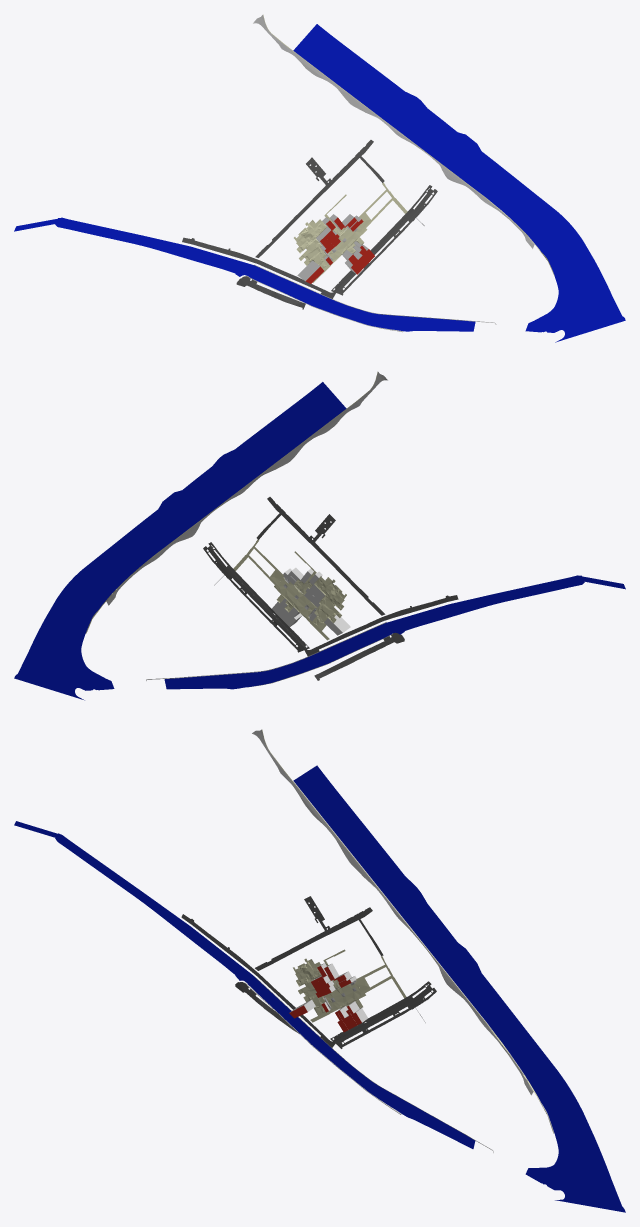
File: extent_blue.obj
3 renders of one model, top to bottom at view 1: azimuth 30°, elevation 25°; view 2: azimuth 150°, elevation 25°; view 3: azimuth 330°, elevation 25°, orthographic.
Parts seen in each view (by area): view 1: b69a8d7bc-2d38-11e6-9a38-393caa90be70, bedab6302-00c8-11e6-b420-2bdcc4ab5d7f, b2c160b4d-2d29-11e6-9a38-393caa90be70, b983a1b0d-00c9-11e6-b420-2bdcc4ab5d7f, b2223065e-00b5-11e6-b420-2bdcc4ab5d7f, b4138231e-00b4-11e6-b420-2bdcc4ab5d7f, b984231ca-00c9-11e6-b420-2bdcc4ab5d7f, b98229afb-00c9-11e6-b420-2bdcc4ab5d7f, b9f68f153-00c9-11e6-b420-2bdcc4ab5d7f; view 2: b69a8d7bc-2d38-11e6-9a38-393caa90be70, bedab6302-00c8-11e6-b420-2bdcc4ab5d7f, b2c160b4d-2d29-11e6-9a38-393caa90be70, b983a1b0d-00c9-11e6-b420-2bdcc4ab5d7f, b4138231e-00b4-11e6-b420-2bdcc4ab5d7f, b2223065e-00b5-11e6-b420-2bdcc4ab5d7f, b984231ca-00c9-11e6-b420-2bdcc4ab5d7f, b98229afb-00c9-11e6-b420-2bdcc4ab5d7f, baf053805-00c9-11e6-b420-2bdcc4ab5d7f, b82575848-2d29-11e6-9a38-393caa90be70, b9f68f153-00c9-11e6-b420-2bdcc4ab5d7f; view 3: b69a8d7bc-2d38-11e6-9a38-393caa90be70, bedab6302-00c8-11e6-b420-2bdcc4ab5d7f, b2c160b4d-2d29-11e6-9a38-393caa90be70, b983a1b0d-00c9-11e6-b420-2bdcc4ab5d7f, b4138231e-00b4-11e6-b420-2bdcc4ab5d7f, b2223065e-00b5-11e6-b420-2bdcc4ab5d7f, b82575848-2d29-11e6-9a38-393caa90be70, b984231ca-00c9-11e6-b420-2bdcc4ab5d7f.
Part boxes in pixels (<box>): b69a8d7bc-2d38-11e6-9a38-393caa90be70: <box>293,24,625,342</box>; bedab6302-00c8-11e6-b420-2bdcc4ab5d7f: <box>14,217,475,331</box>; b2c160b4d-2d29-11e6-9a38-393caa90be70: <box>253,15,534,248</box>; b983a1b0d-00c9-11e6-b420-2bdcc4ab5d7f: <box>255,140,384,257</box>; b2223065e-00b5-11e6-b420-2bdcc4ab5d7f: <box>294,219,328,269</box>; b4138231e-00b4-11e6-b420-2bdcc4ab5d7f: <box>312,182,407,282</box>; b984231ca-00c9-11e6-b420-2bdcc4ab5d7f: <box>182,237,335,298</box>; b98229afb-00c9-11e6-b420-2bdcc4ab5d7f: <box>236,276,305,309</box>; b9f68f153-00c9-11e6-b420-2bdcc4ab5d7f: <box>339,189,437,295</box>; b69a8d7bc-2d38-11e6-9a38-393caa90be70: <box>14,382,346,700</box>; bedab6302-00c8-11e6-b420-2bdcc4ab5d7f: <box>164,575,625,689</box>; b2c160b4d-2d29-11e6-9a38-393caa90be70: <box>106,372,387,605</box>; b983a1b0d-00c9-11e6-b420-2bdcc4ab5d7f: <box>256,497,385,615</box>; b4138231e-00b4-11e6-b420-2bdcc4ab5d7f: <box>233,539,329,640</box>; b2223065e-00b5-11e6-b420-2bdcc4ab5d7f: <box>312,576,346,630</box>; b984231ca-00c9-11e6-b420-2bdcc4ab5d7f: <box>304,595,458,656</box>; b98229afb-00c9-11e6-b420-2bdcc4ab5d7f: <box>314,632,404,680</box>; baf053805-00c9-11e6-b420-2bdcc4ab5d7f: <box>208,546,306,651</box>; b82575848-2d29-11e6-9a38-393caa90be70: <box>85,371,377,633</box>; b9f68f153-00c9-11e6-b420-2bdcc4ab5d7f: <box>203,546,301,652</box>; b69a8d7bc-2d38-11e6-9a38-393caa90be70: <box>293,765,625,1212</box>; bedab6302-00c8-11e6-b420-2bdcc4ab5d7f: <box>14,821,475,1148</box>; b2c160b4d-2d29-11e6-9a38-393caa90be70: <box>252,729,533,1095</box>; b983a1b0d-00c9-11e6-b420-2bdcc4ab5d7f: <box>255,896,383,970</box>; b4138231e-00b4-11e6-b420-2bdcc4ab5d7f: <box>310,956,406,1022</box>; b2223065e-00b5-11e6-b420-2bdcc4ab5d7f: <box>293,958,325,1015</box>; b82575848-2d29-11e6-9a38-393caa90be70: <box>262,729,554,1133</box>; b984231ca-00c9-11e6-b420-2bdcc4ab5d7f: <box>181,914,335,1047</box>.
Bounding box in the file's own units: 524 × 328 × 26.88.
